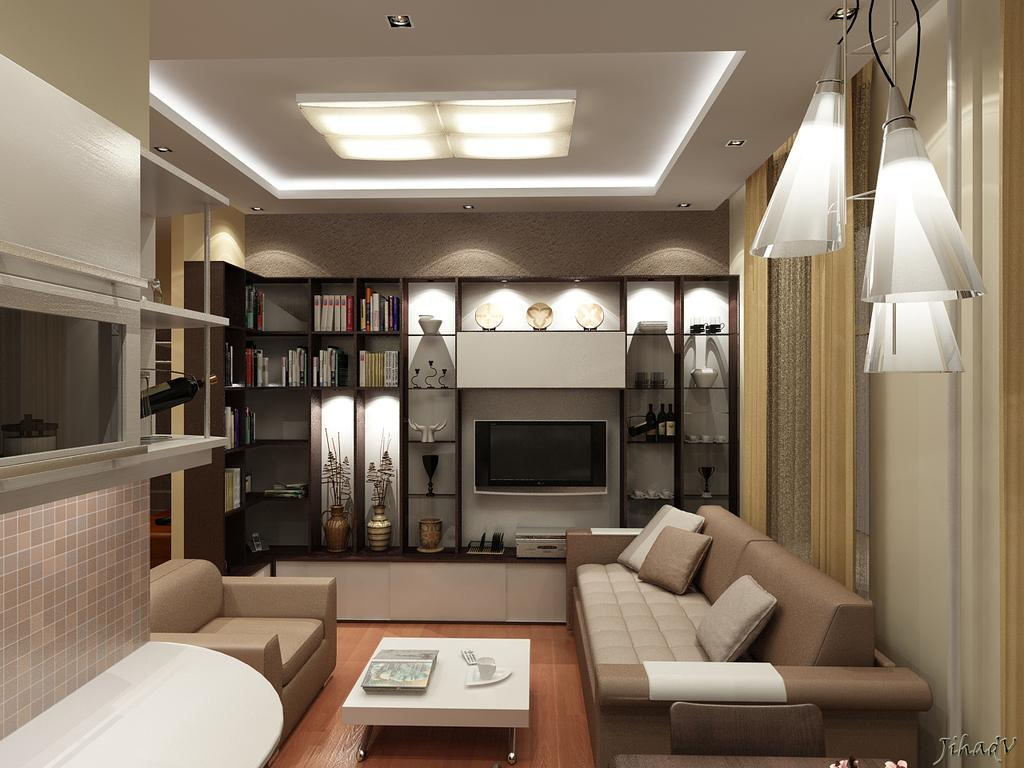Book: (361, 648, 439, 691)
Computer-monitor: (471, 415, 610, 496)
